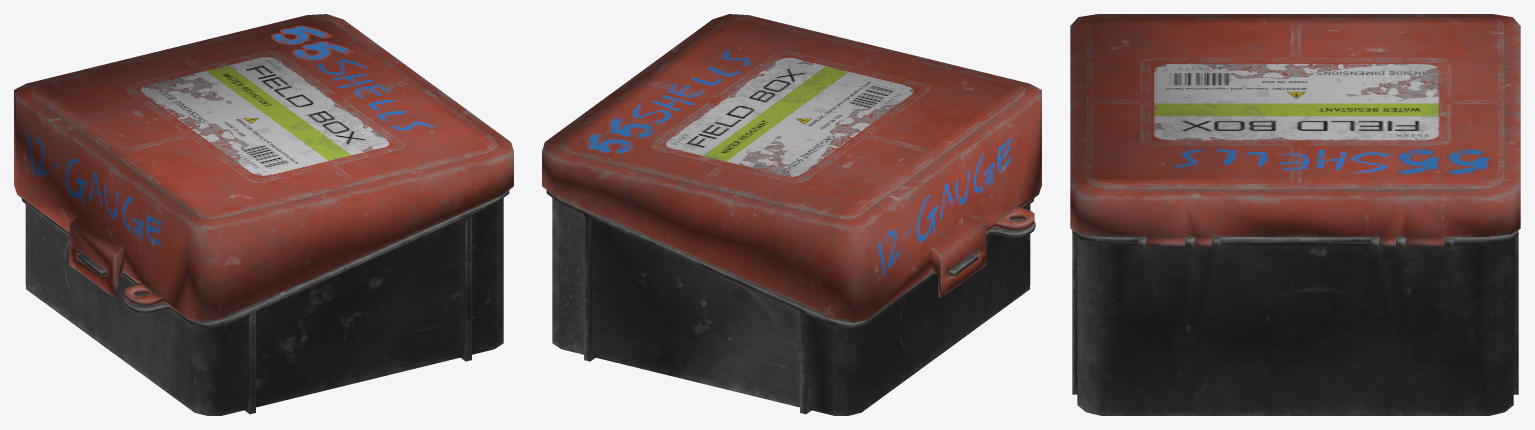
Rendered from Ammo12gaPickup.fbx.
3 views of the same model, side by side, from view 1: azimuth 30°, elevation 25°; view 2: azimuth 150°, elevation 25°; view 3: azimuth 270°, elevation 25° (orthographic). The views are drawn at different scales.
Parts seen in each view (by area): view 1: ammo_12-gauge_LOD0, Second Digit, First Digit; view 2: ammo_12-gauge_LOD0, First Digit, Second Digit; view 3: ammo_12-gauge_LOD0, First Digit, Second Digit.
Part boxes in pixels (x1,y1,x2,y2): ammo_12-gauge_LOD0: (14,14,513,415); Second Digit: (292,41,353,60); First Digit: (271,25,332,44); ammo_12-gauge_LOD0: (542,14,1041,415); First Digit: (586,131,634,154); Second Digit: (607,115,655,138); ammo_12-gauge_LOD0: (1070,14,1520,415); First Digit: (1444,148,1491,175); Second Digit: (1394,148,1441,175).
Size of what is drawn, in the model's own units: 0.2753 by 0.1487 by 0.2622.
2 materials, 2 textured.
